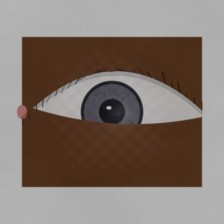hemorrhage_spot: (77, 99, 149, 157)
